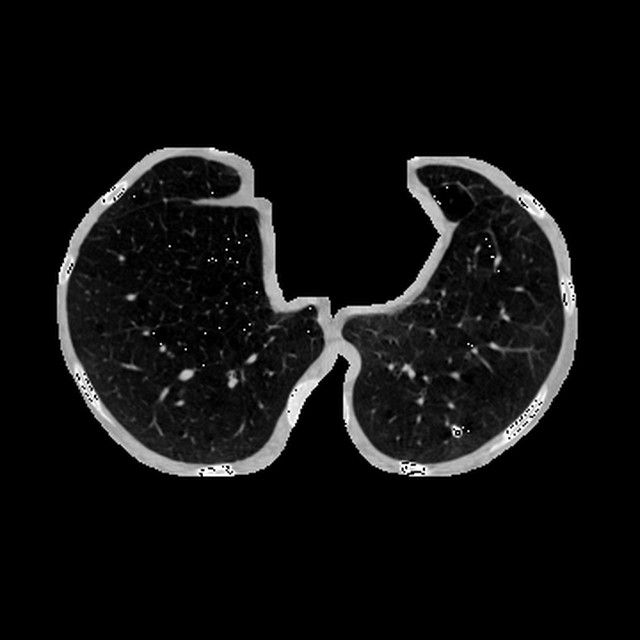PN: (452, 427, 462, 437)
